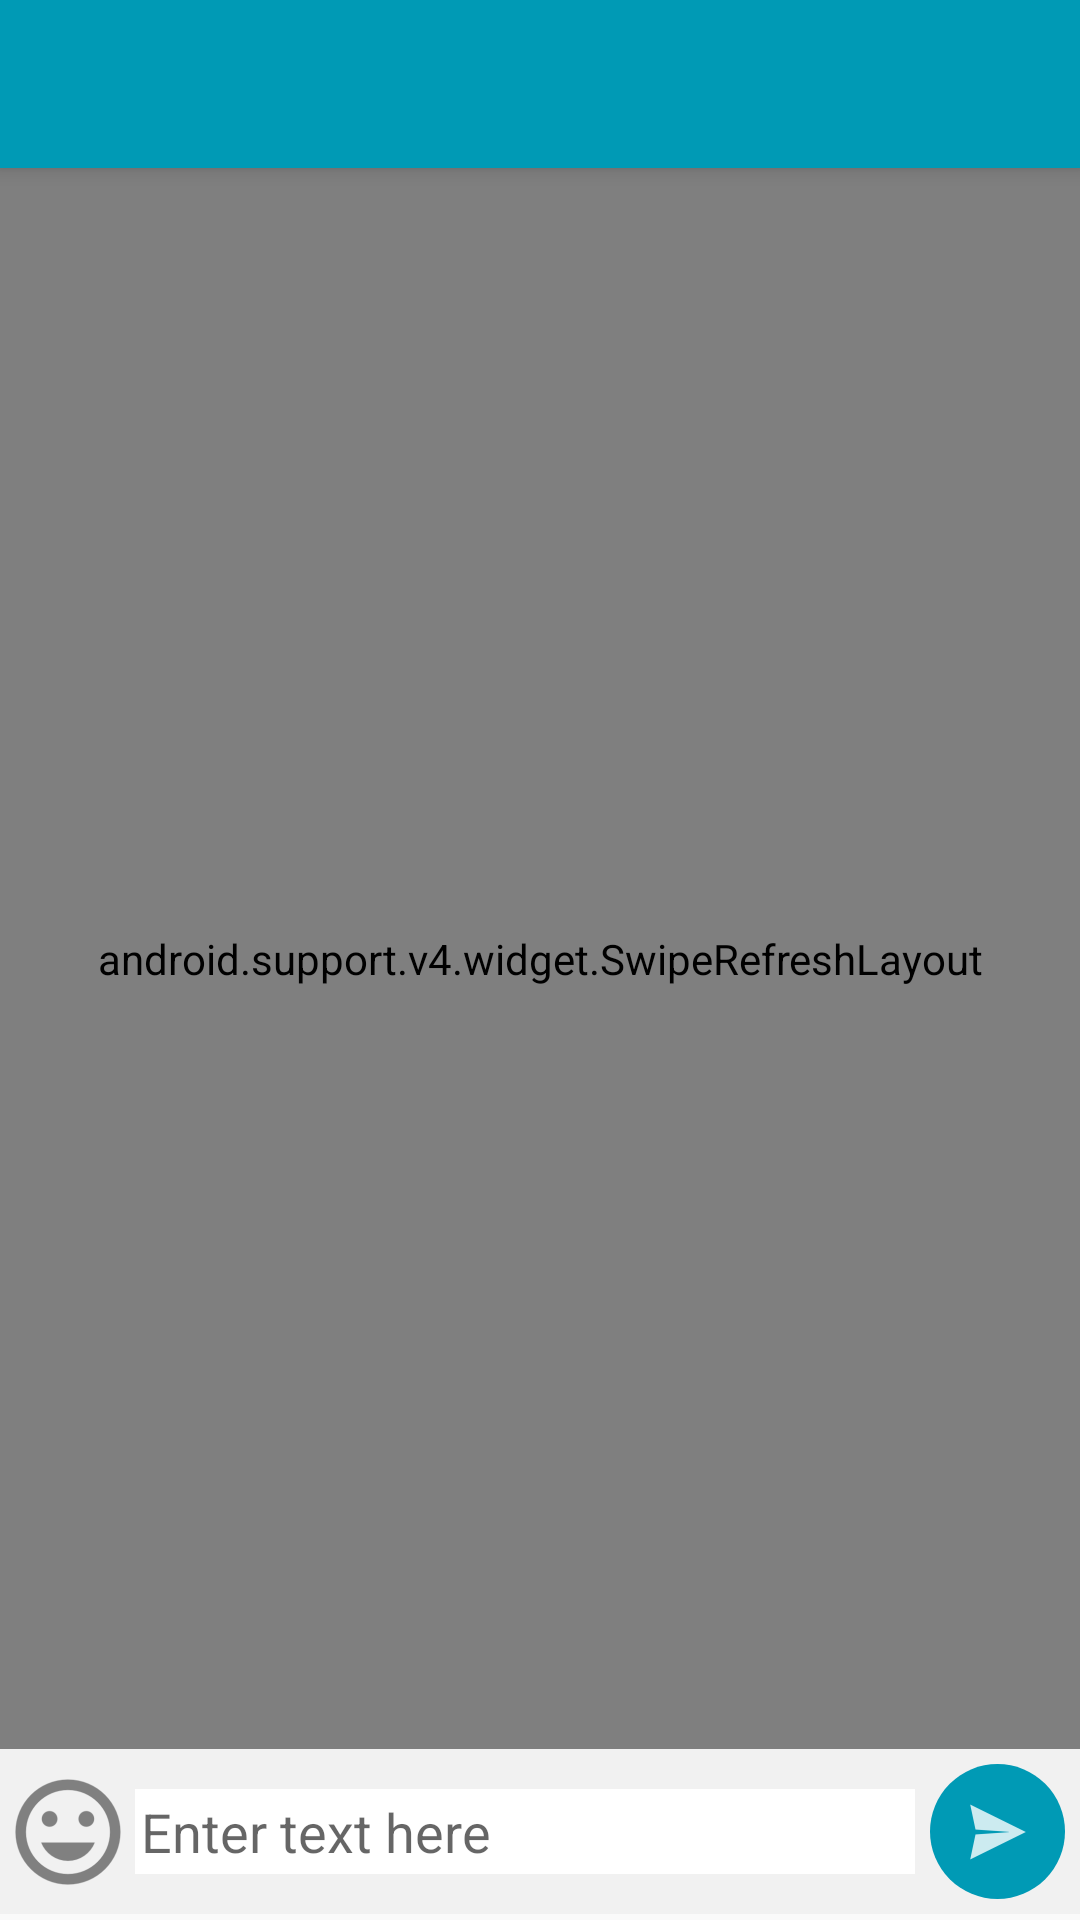

Named icons in this screenshot (1080px×1920px) and their bounding boxes, (x1, y1, x2, y2):
send: (930, 1764, 1065, 1899)
stickers menu: (15, 1779, 121, 1885)
